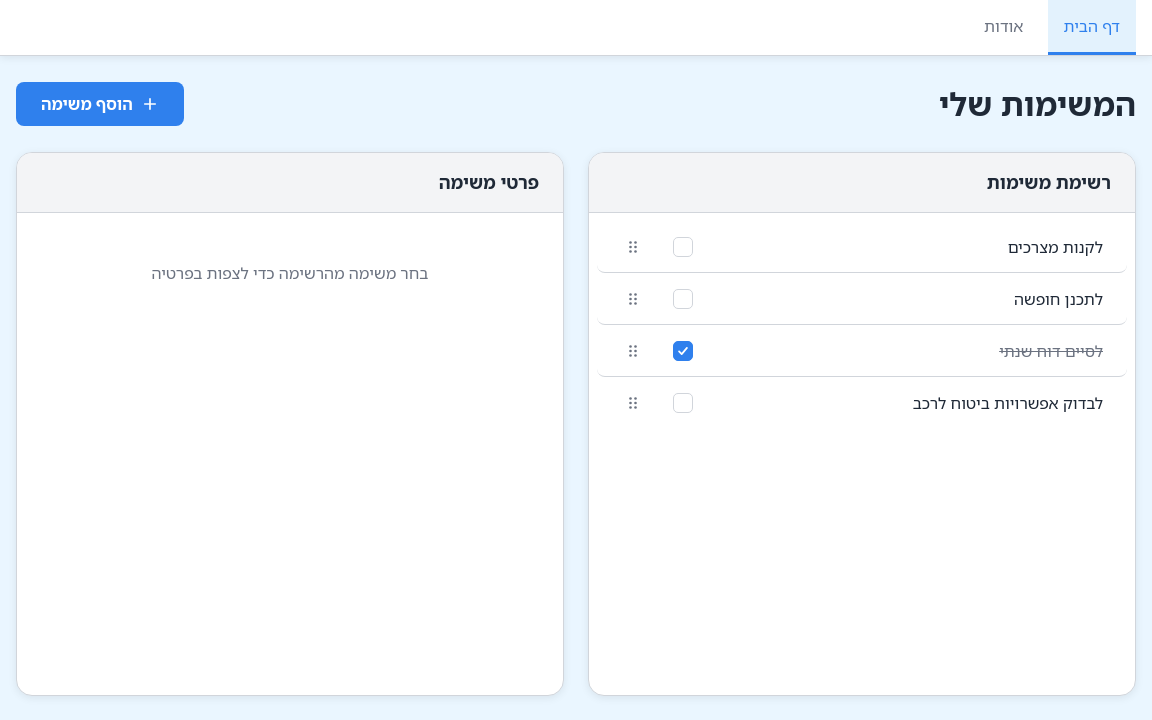
it: Home page › starts with no selection and shows details of the clicked task
Check: the text "בחר משימה מהרשימה כדי לצפות בפרטיה" is shown, box [152,262,428,284]
Step 1. Click the button "לתכנן חופשה" → (1059, 298), box [713,273,1111,324]
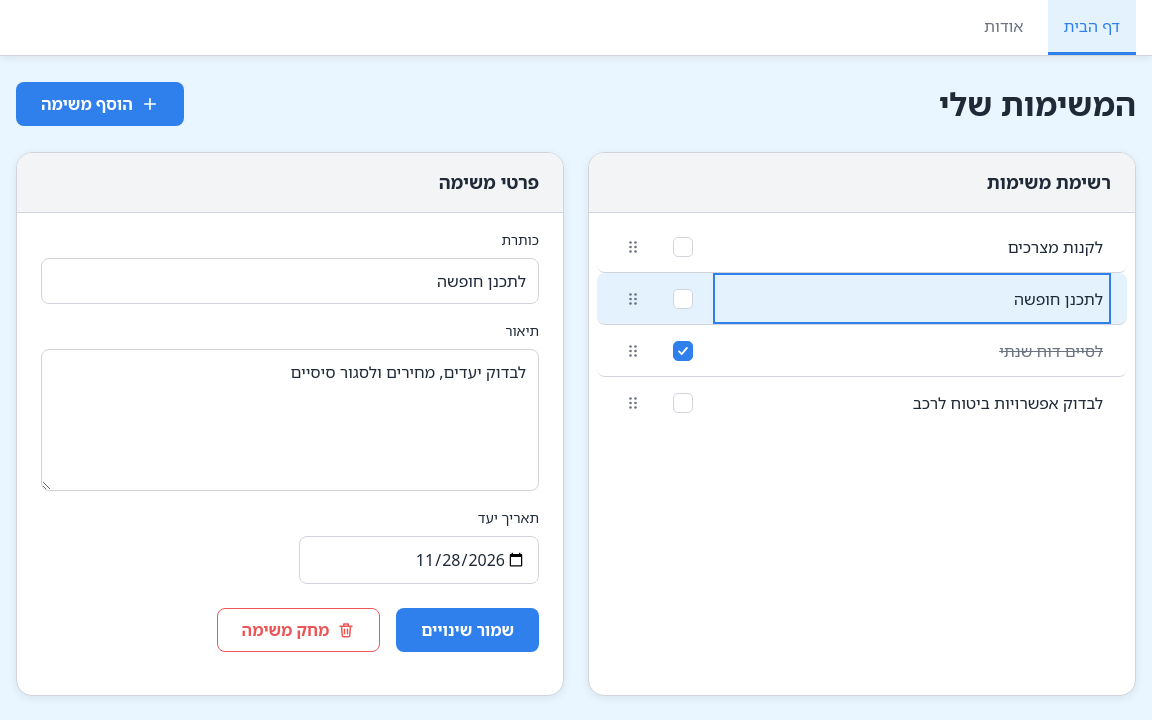
Check: the text "בחר משימה מהרשימה כדי לצפות בפרטיה" is gone
Check: the field labelled "כותרת" holds "לתכנן חופשה", box [41,258,539,304]
Check: the text box labelled "תיאור" holds "לבדוק יעדים, מחירים ולסגור סיסיים", box [41,349,539,491]
Step 2. Click the button "לקנות מצרכים" → (1055, 246), box [713,221,1111,272]
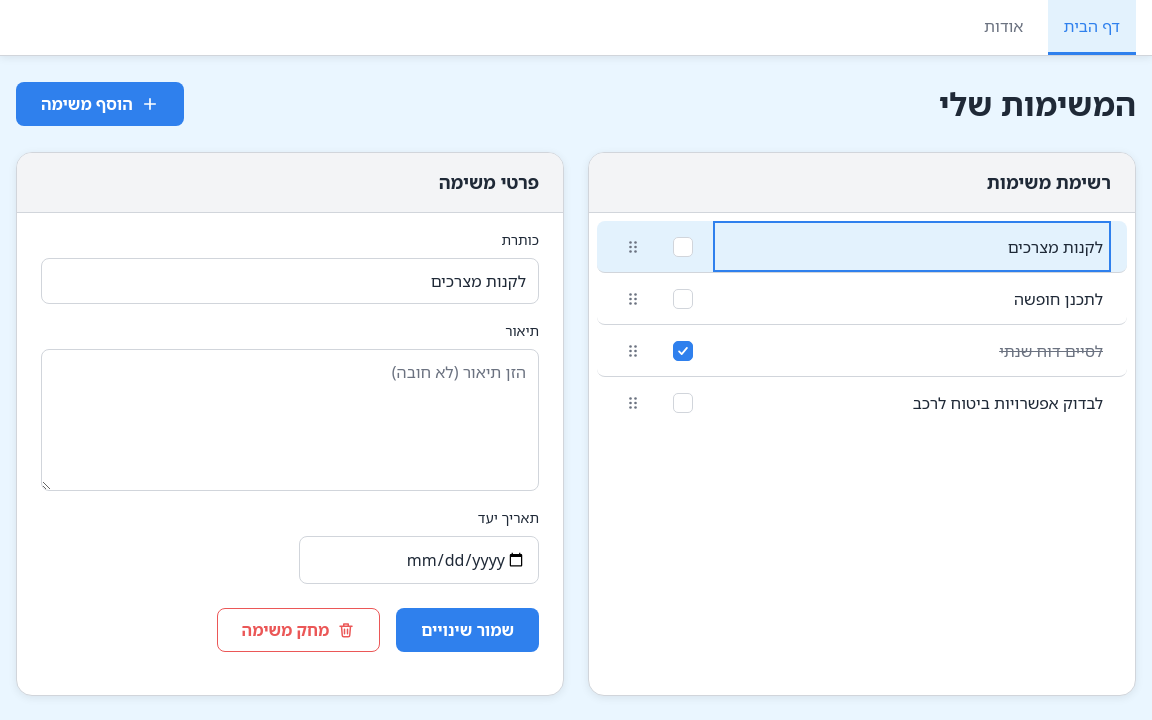
Check: the field labelled "כותרת" holds "לקנות מצרכים", box [41,258,539,304]
Check: the text box labelled "תיאור" is empty, box [41,349,539,491]
Check: the date field labelled "תאריך יעד" is empty, box [299,536,539,584]
